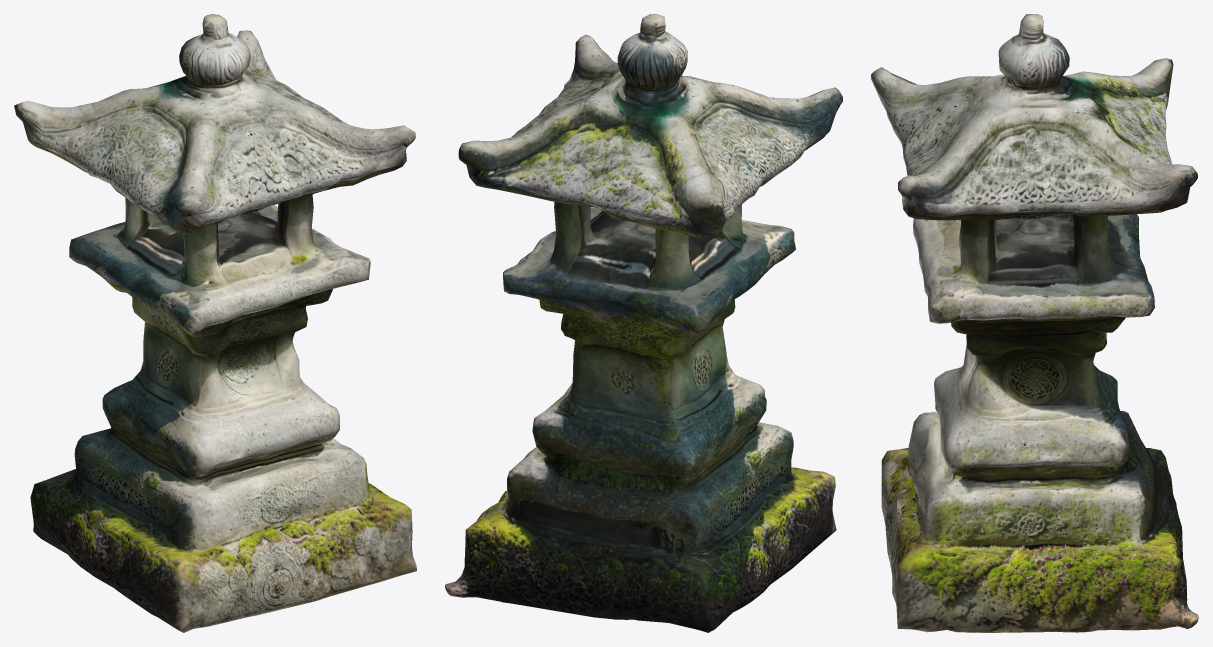
File: FREE_Low-Poly_Japanese_Stone_Lantern_Ishi-d_r.glb
The picture shows the model from 3 angles, left to right: view 1: azimuth 30°, elevation 25°; view 2: azimuth 150°, elevation 25°; view 3: azimuth 270°, elevation 25°; orthographic projection.
Visible parts, largest first — view 1: Mesh_0_Material_0_0; view 2: Mesh_0_Material_0_0; view 3: Mesh_0_Material_0_0.
Boxes of the visible parts, left/top/right/bottom form: Mesh_0_Material_0_0: left=14, top=14, right=416, bottom=632; Mesh_0_Material_0_0: left=445, top=14, right=842, bottom=632; Mesh_0_Material_0_0: left=871, top=14, right=1198, bottom=632.
Size of the model in its own units: 0.6096 by 1.2 by 0.6348.
1 material, 1 textured.
